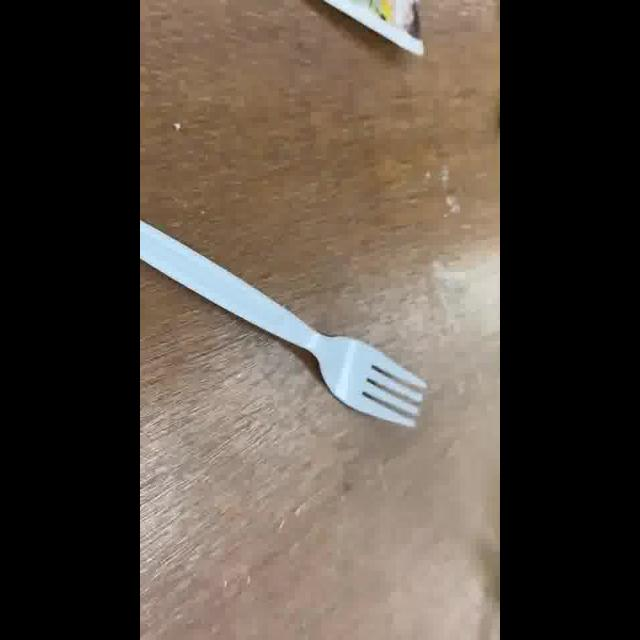plastic_cultery: (140, 219, 432, 436)
